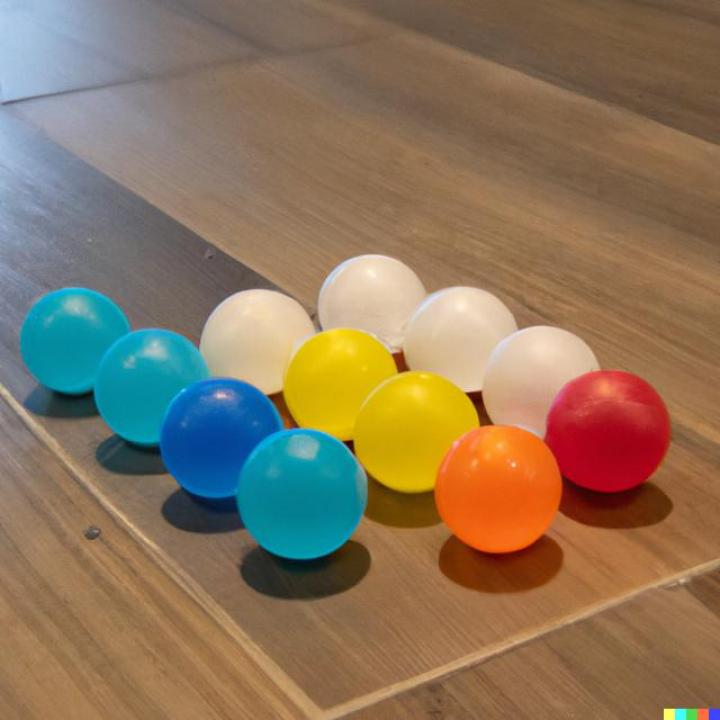orange: (434, 425, 562, 555)
white: (481, 324, 602, 436), (203, 288, 316, 395), (318, 253, 426, 352)
